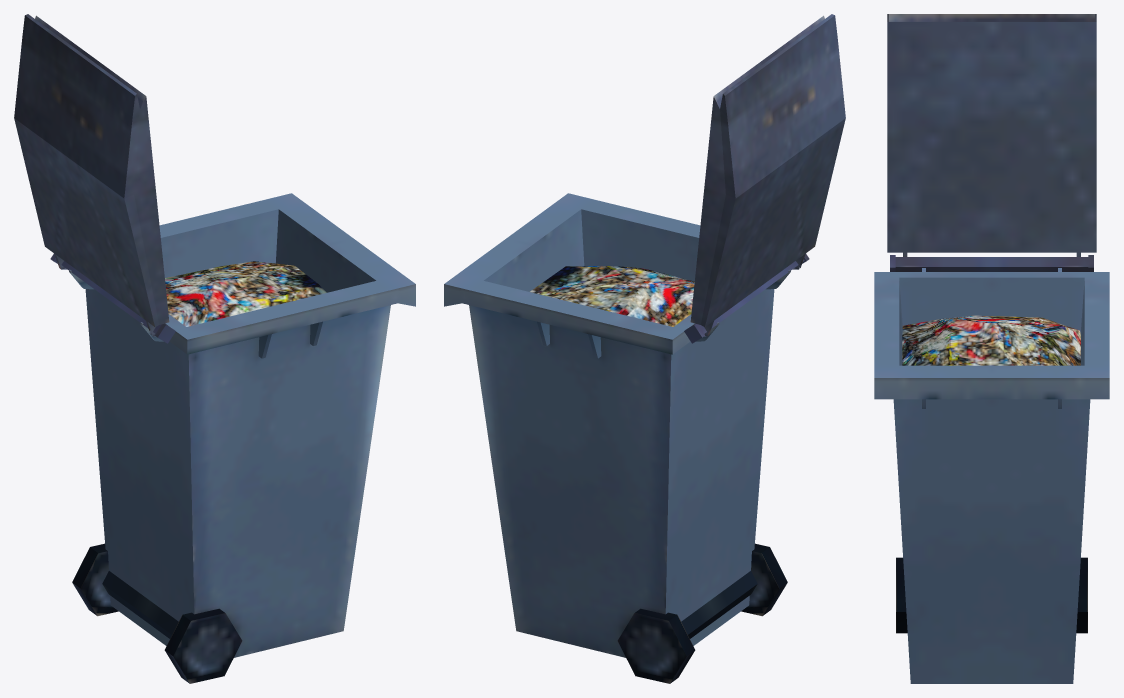
The model's file is Urban_TrashCanAlt1Full_Model.fbx.
3 views of the same model, side by side, from view 1: azimuth 30°, elevation 25°; view 2: azimuth 150°, elevation 25°; view 3: azimuth 270°, elevation 25° (orthographic). The views are drawn at different scales.
Parts seen in each view (by area): view 1: Urban_TrashCanAlt1Full_Mesh; view 2: Urban_TrashCanAlt1Full_Mesh; view 3: Urban_TrashCanAlt1Full_Mesh.
Boxes of the visible parts, left/top/right/bottom form: Urban_TrashCanAlt1Full_Mesh: left=14, top=14, right=415, bottom=683; Urban_TrashCanAlt1Full_Mesh: left=444, top=14, right=845, bottom=683; Urban_TrashCanAlt1Full_Mesh: left=874, top=14, right=1109, bottom=683.
Bounding box in the file's own units: 1.03 × 2.1 × 0.7794.
